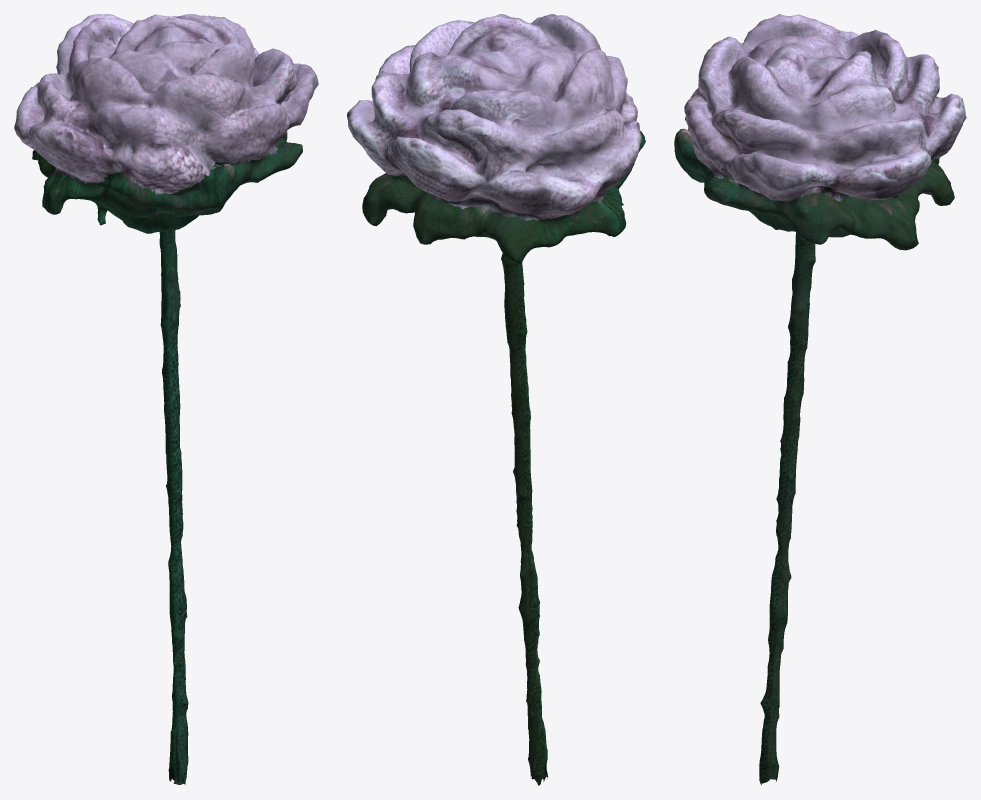
The model's file is rose_single.glb.
The picture shows the model from 3 angles, left to right: view 1: azimuth 30°, elevation 25°; view 2: azimuth 150°, elevation 25°; view 3: azimuth 270°, elevation 25°; orthographic projection. The views are drawn at different scales.
Parts seen in each view (by area): view 1: Rose_Petal, Rose_Stem; view 2: Rose_Petal, Rose_Stem; view 3: Rose_Petal, Rose_Stem.
Part boxes in pixels (bbox=[...]): Rose_Petal: bbox=[14, 14, 318, 194]; Rose_Stem: bbox=[32, 30, 302, 784]; Rose_Petal: bbox=[347, 14, 641, 220]; Rose_Stem: bbox=[362, 57, 645, 785]; Rose_Petal: bbox=[684, 14, 966, 201]; Rose_Stem: bbox=[674, 14, 954, 785].
Size of the model in its own units: 1.61 by 4.31 by 1.54.
2 materials, 2 textured.
